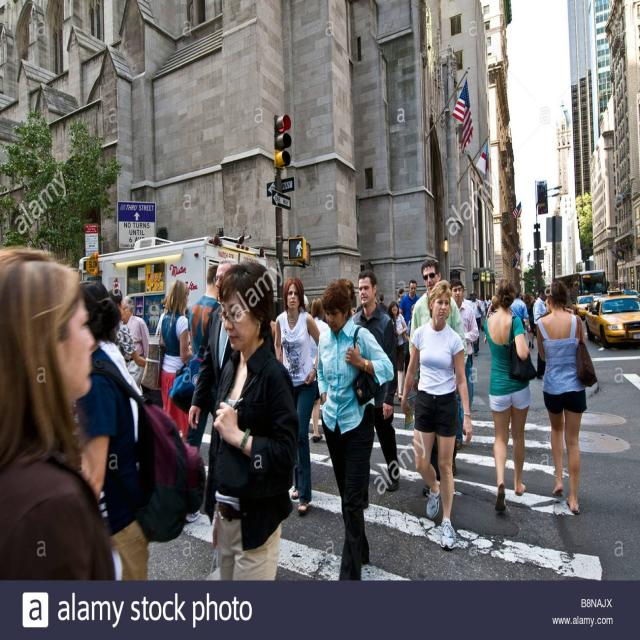body: (246, 288, 584, 408), (78, 279, 208, 580), (1, 245, 117, 581), (202, 259, 300, 580), (316, 277, 396, 583), (399, 276, 473, 553), (408, 258, 469, 495), (482, 276, 540, 514), (535, 280, 587, 517), (351, 266, 401, 492), (274, 277, 320, 516), (188, 255, 242, 433), (137, 278, 194, 444), (81, 278, 152, 401), (448, 278, 480, 451), (187, 261, 229, 357), (309, 297, 331, 443), (120, 294, 151, 390), (386, 301, 408, 400), (398, 279, 421, 327), (470, 290, 485, 357), (509, 289, 531, 332), (626, 297, 640, 315), (376, 293, 388, 313)
